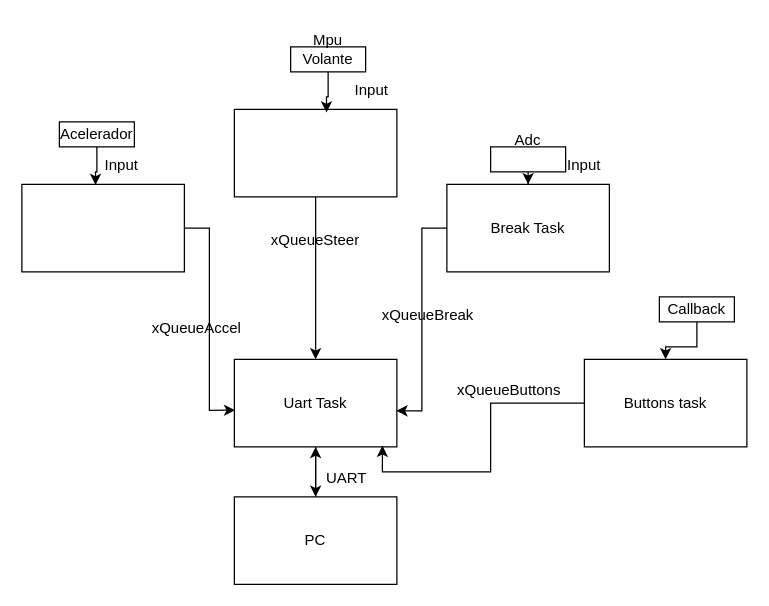
Some shapes in this 769 by 606 pixel diagram are drawn without their labels. Here are the shapes that lost their labels. From the top down, the centre of each, then its label:
At point 315,152: "Mpu task".
At point 527,159: "Freio".
At point 102,227: "Accel Task".
